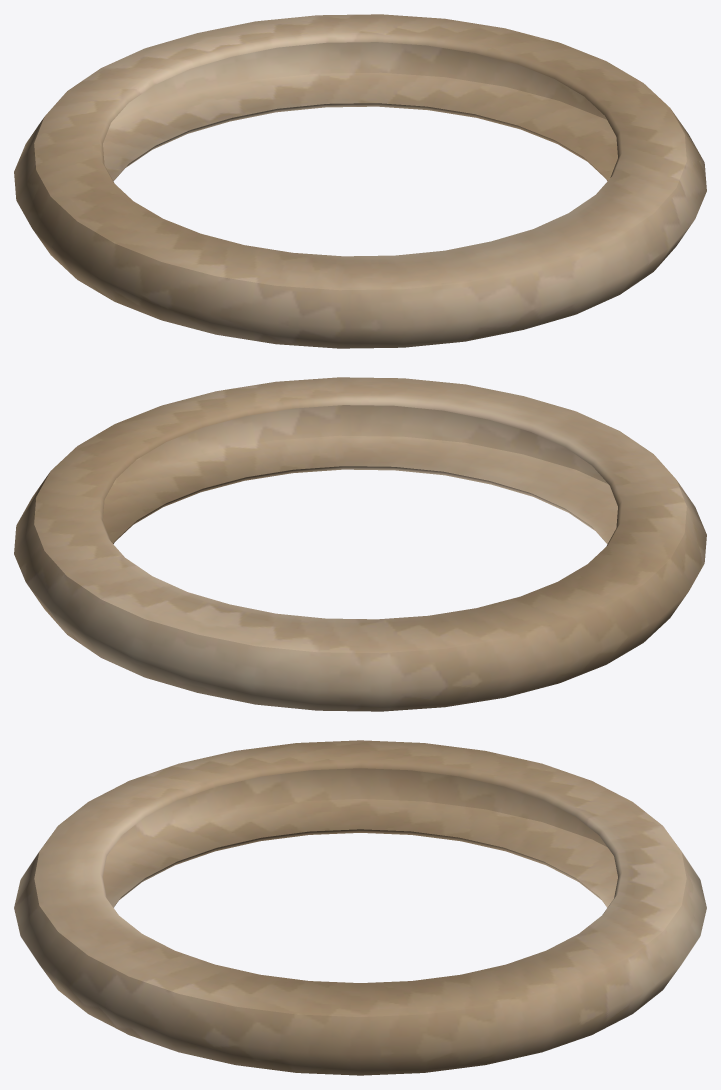
File: pref_fx_NeutralScoreArea03_yellow_rim_lv2.fbx
The picture shows the model from 3 angles, top to bottom: view 1: azimuth 30°, elevation 25°; view 2: azimuth 150°, elevation 25°; view 3: azimuth 270°, elevation 25°; orthographic projection.
Parts seen in each view (by area): view 1: sm_prop_platform06b_lv2; view 2: sm_prop_platform06b_lv2; view 3: sm_prop_platform06b_lv2.
Boxes of the visible parts, x1,y1,x2,y2 form: sm_prop_platform06b_lv2: (14,14,706,348); sm_prop_platform06b_lv2: (14,377,706,711); sm_prop_platform06b_lv2: (14,740,706,1075).
Bounding box in the file's own units: 2.52 × 0.2872 × 2.52.
Materials: 1 (1 with a texture image).
